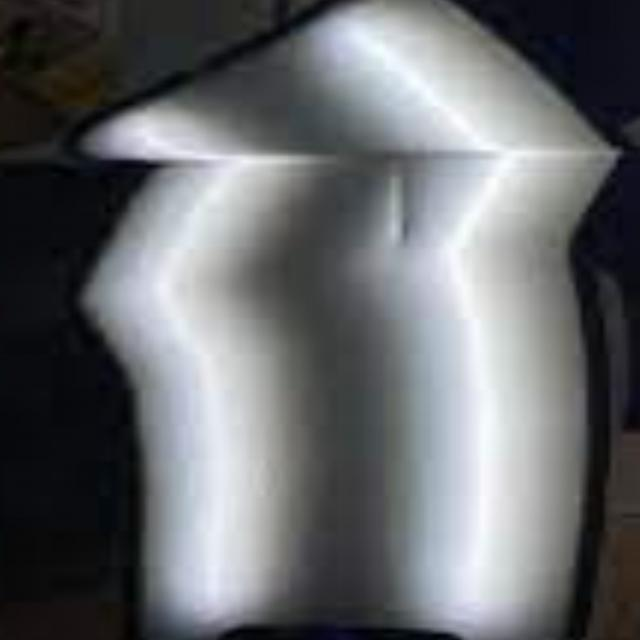dents: (372, 141, 450, 269)
